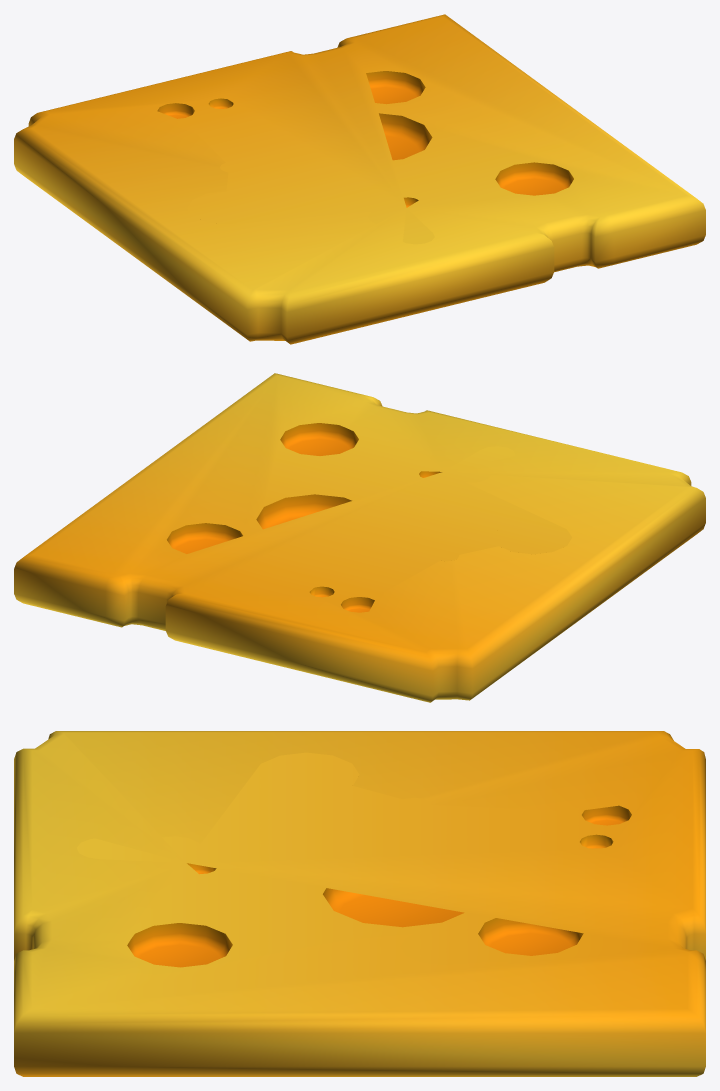
File: Cheese_V1_02.fbx
3 views of the same model, one above another, from view 1: azimuth 30°, elevation 25°; view 2: azimuth 150°, elevation 25°; view 3: azimuth 270°, elevation 25° (orthographic). The views are drawn at different scales.
Visible parts, largest first — view 1: Cheese_V1_02; view 2: Cheese_V1_02; view 3: Cheese_V1_02.
Part boxes in pixels (x1=…): Cheese_V1_02: x1=14, y1=14, x2=705, y2=344; Cheese_V1_02: x1=14, y1=373, x2=705, y2=702; Cheese_V1_02: x1=14, y1=731, x2=705, y2=1076.
Bounding box in the file's own units: 46.96 × 5 × 47.1.
